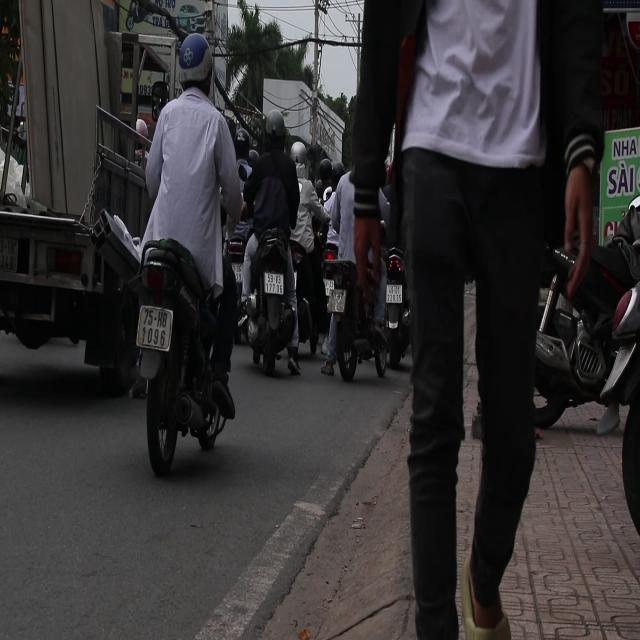motorbike: (144, 214, 230, 488), (250, 222, 296, 380), (317, 243, 368, 381)
